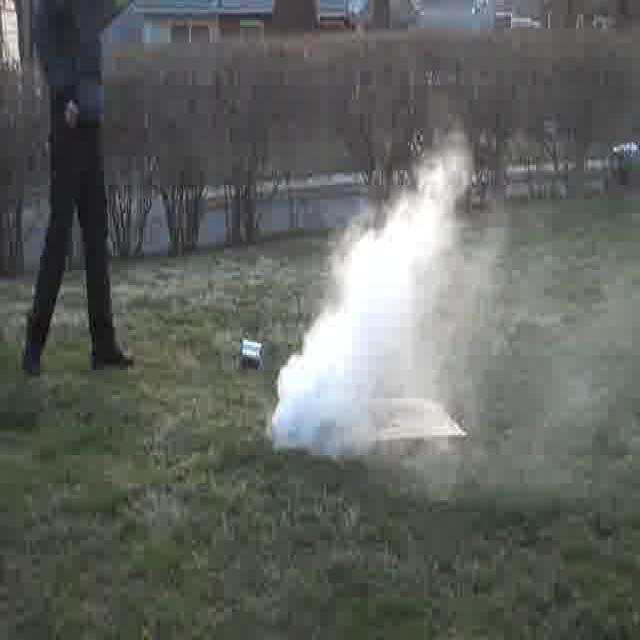Smoke: (276, 155, 472, 462)
